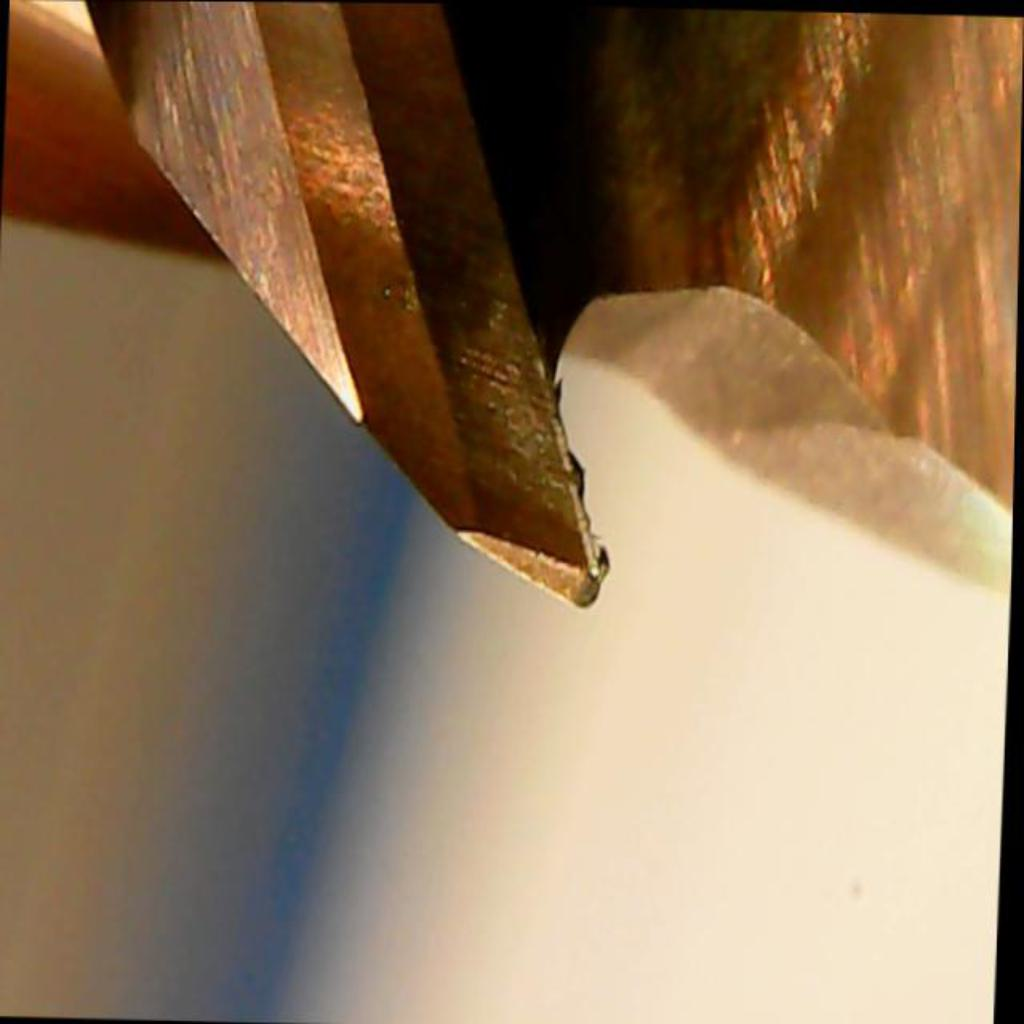Tool-wear-class-1: (320, 163, 637, 629)
